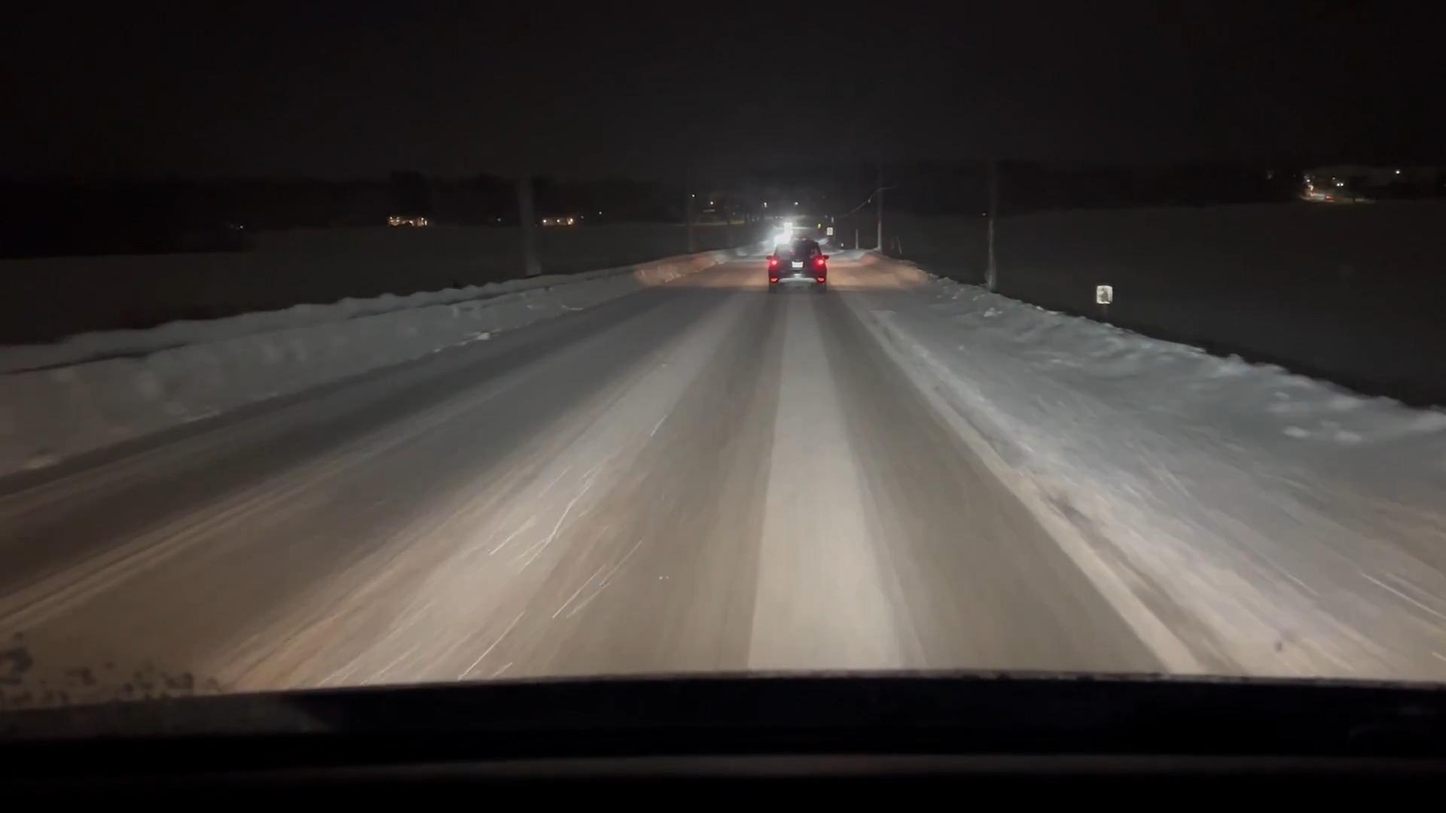Snow: (0, 248, 1445, 696)
